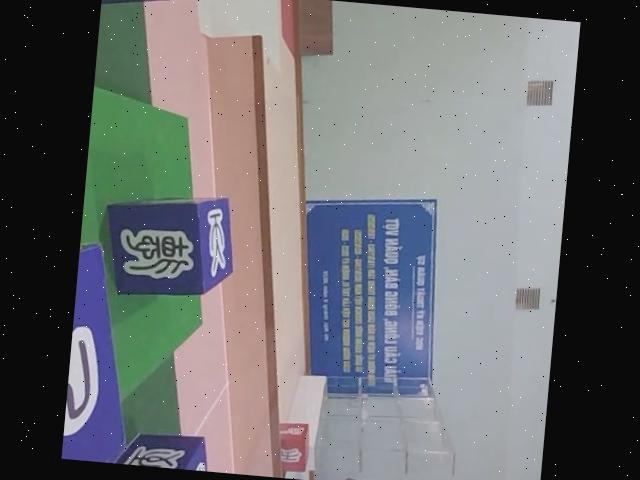R2 Fake Blue: (98, 188, 238, 304), (96, 428, 213, 472), (99, 0, 170, 14)
